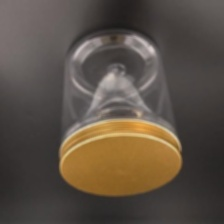plastic_box: (49, 22, 188, 202)
